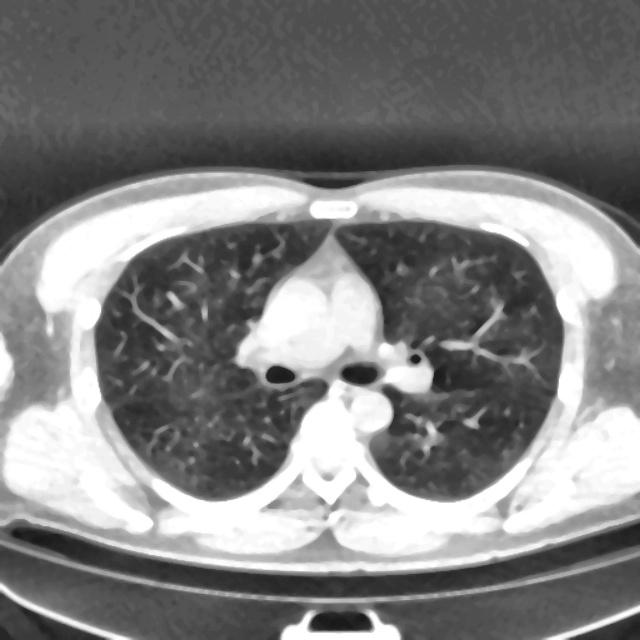covid: (1, 163, 639, 571)
